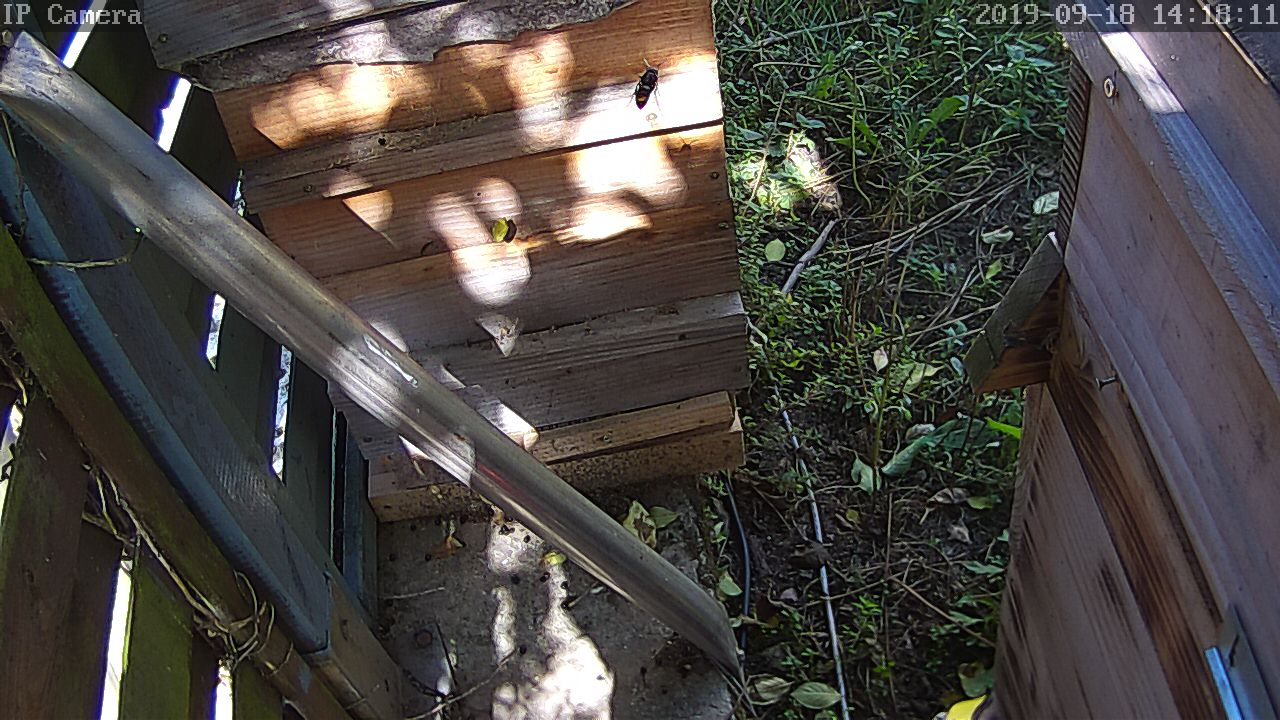hornet: (2, 1, 1246, 720)
